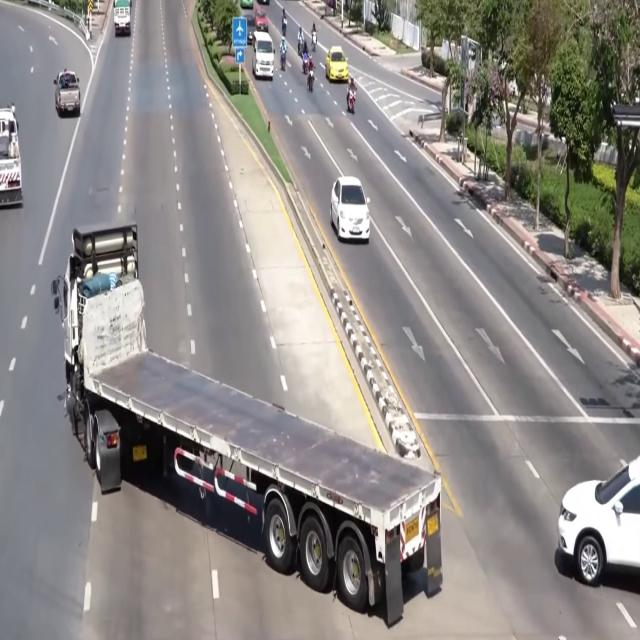car: (558, 457, 639, 586), (331, 176, 370, 242), (54, 69, 81, 116), (252, 32, 274, 80), (325, 46, 348, 81), (244, 14, 255, 45), (255, 9, 268, 32), (240, 0, 253, 9), (257, 0, 269, 5)
scooty: (347, 89, 355, 114), (308, 69, 314, 92), (311, 31, 317, 53), (303, 54, 308, 74), (280, 52, 285, 71), (282, 18, 287, 37)
truck: (51, 224, 442, 625), (0, 105, 22, 206), (114, 0, 130, 36)
